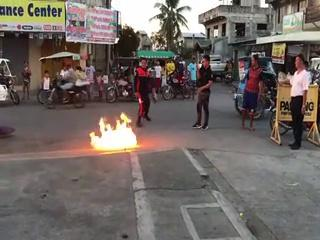Fire: (84, 112, 145, 150)
